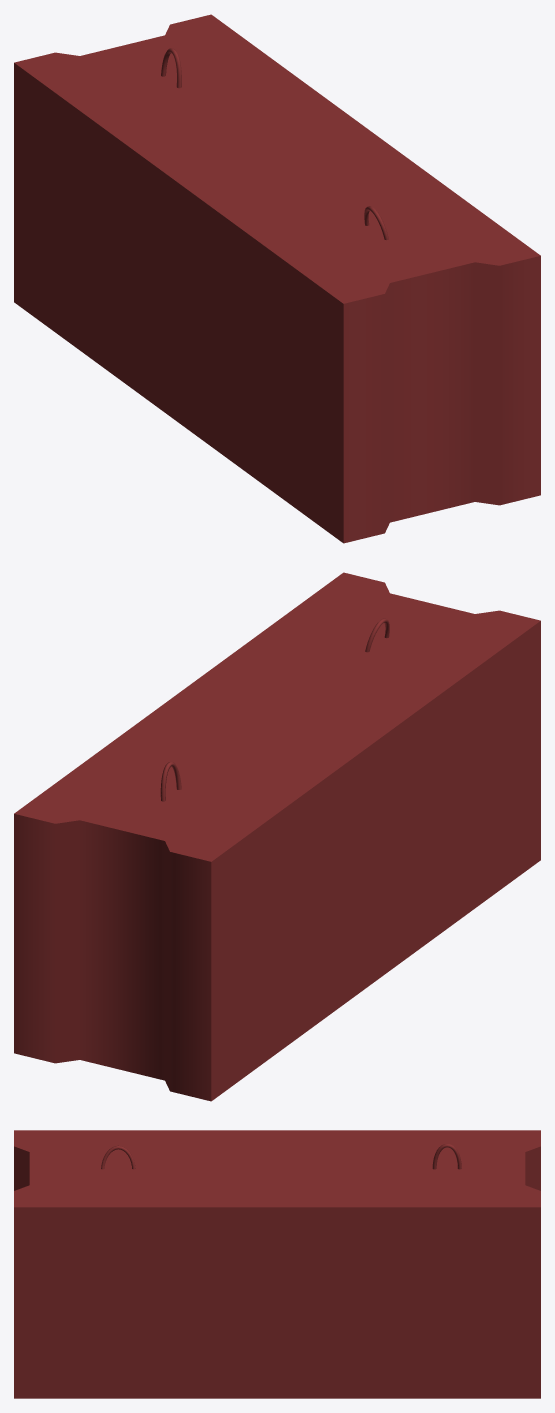
Rendered from SM_Stone02.fbx.
3 views of the same model, one above another, from view 1: azimuth 30°, elevation 25°; view 2: azimuth 150°, elevation 25°; view 3: azimuth 270°, elevation 25° (orthographic). The views are drawn at different scales.
Parts seen in each view (by area): view 1: Stone02; view 2: Stone02; view 3: Stone02.
Part boxes in pixels (x1,y1,x2,y2): Stone02: (14, 14, 540, 543); Stone02: (14, 572, 540, 1101); Stone02: (14, 1130, 540, 1398).
Bounding box in the file's own units: 50 × 65.75 × 145.
